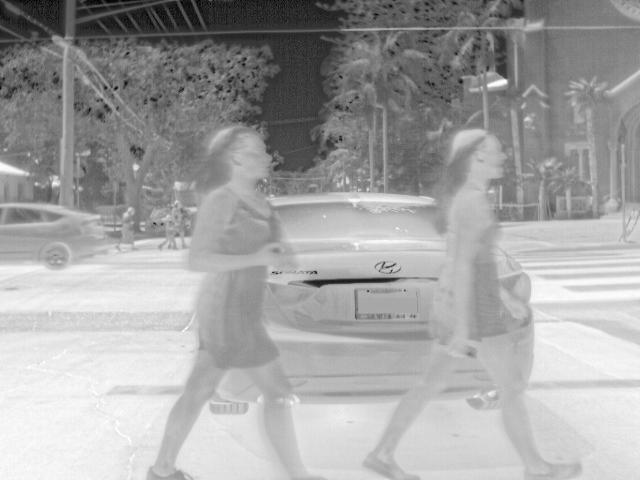car: (259, 191, 437, 404), (0, 200, 114, 270), (496, 241, 541, 386)
person: (363, 130, 583, 478), (143, 124, 321, 479), (157, 198, 190, 253), (115, 206, 141, 250)
